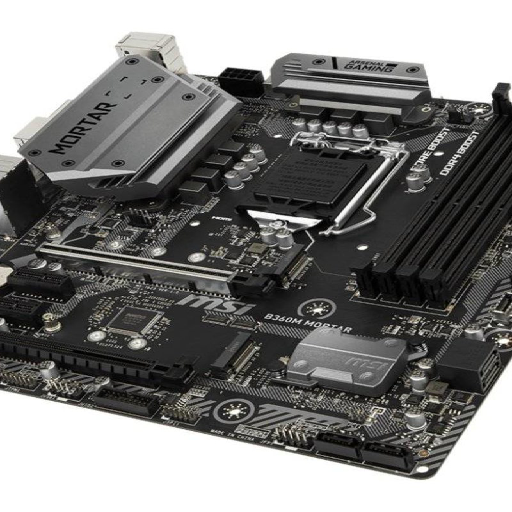CPU: (234, 129, 407, 231)
GPU: (33, 241, 268, 302), (1, 324, 195, 391)
MOTHERBOARD: (1, 30, 512, 480)
RAM: (354, 81, 512, 313)
SSD: (209, 331, 260, 381), (268, 242, 314, 286)
